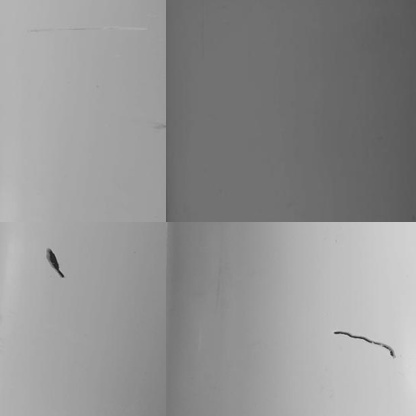fengxi: (326, 325, 398, 362)
kongdong: (41, 246, 71, 282)
